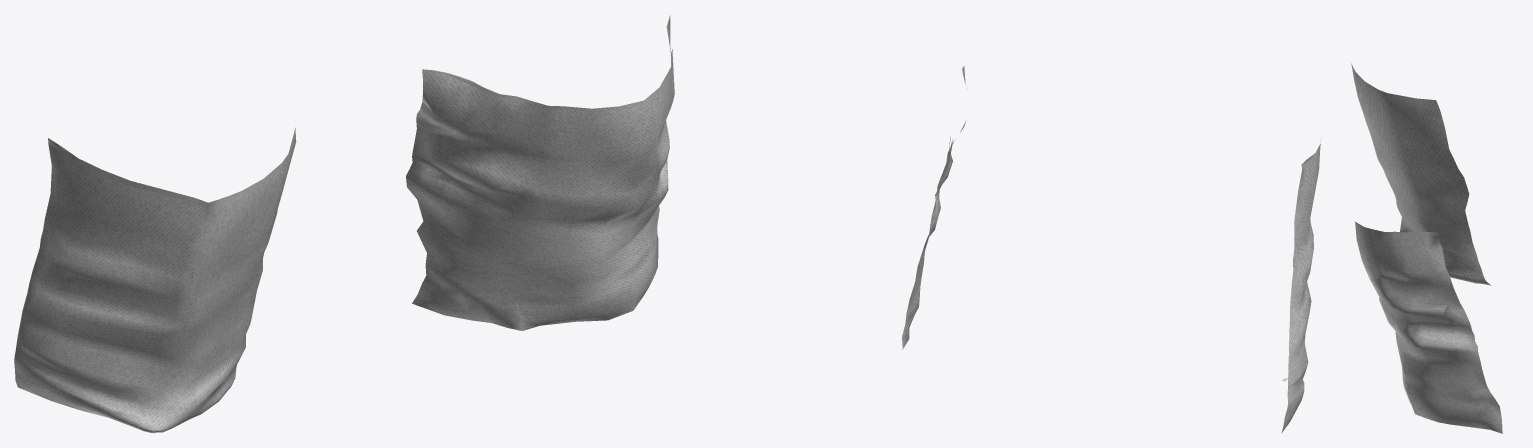
Rendered from Pants_Knee.glb.
3 renders of one model, left to right at view 1: azimuth 30°, elevation 25°; view 2: azimuth 150°, elevation 25°; view 3: azimuth 270°, elevation 25°, orthographic. The views are drawn at different scales.
Parts seen in each view (by area): view 1: Pants_Knee1, Rope1; view 2: Pants_Knee1; view 3: Pants_Knee1, Rope1.
Part boxes in pixels (x1,y1,x2,y2): Pants_Knee1: (14, 15, 674, 433); Rope1: (48, 16, 672, 206); Pants_Knee1: (902, 65, 1320, 433); Pants_Knee1: (1351, 63, 1502, 433); Rope1: (1351, 64, 1437, 235).
Size of the model in its own units: 0.758 by 0.3332 by 0.2393.
2 materials, 2 textured.
